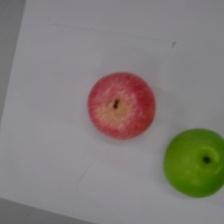green: (162, 128, 223, 198)
red: (87, 71, 157, 141)
